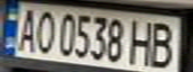0: (54, 9, 78, 57)
3: (90, 12, 109, 62)
5: (72, 11, 93, 60)
8: (106, 15, 130, 64)
A: (12, 6, 42, 53)
B: (145, 19, 181, 70)
H: (124, 17, 160, 66)
O: (30, 7, 57, 55)
